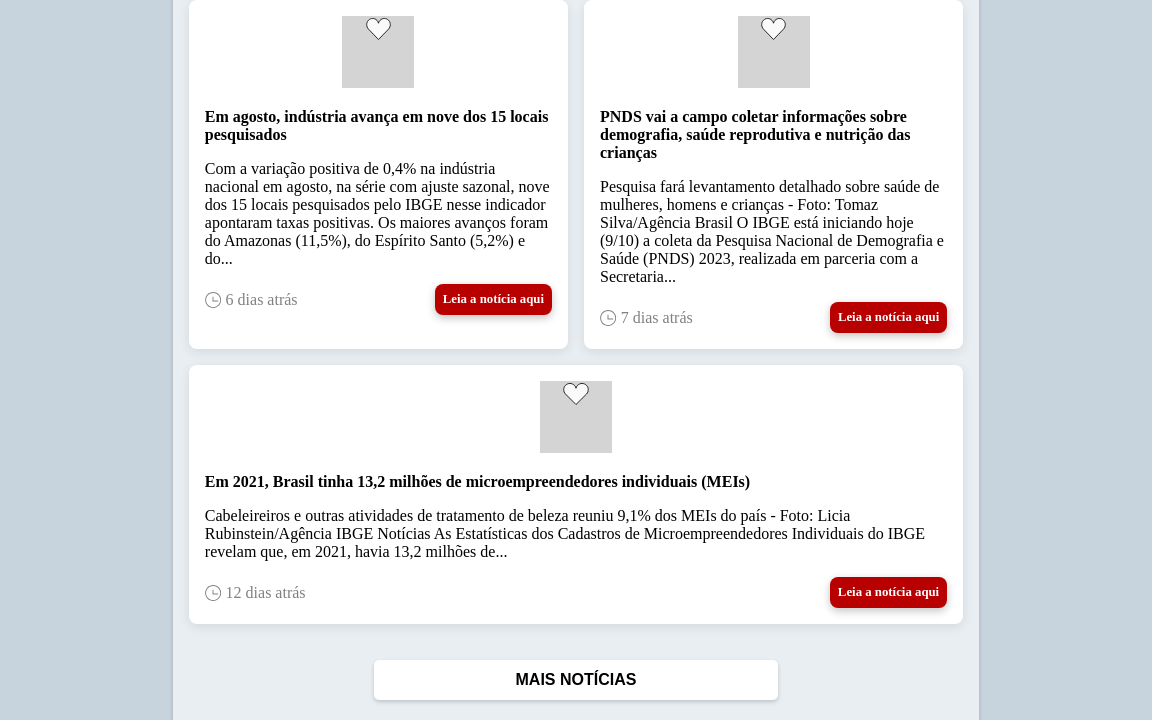
Test: Testa a página home › Testa se ao clicar no botão "MAIS NOTÍCIAS" a quantidade de notícias exibidas é duplicada
(page scrolled)
Click the button "MAIS NOTÍCIAS".
click(576, 680)  # box [374,660,778,700]
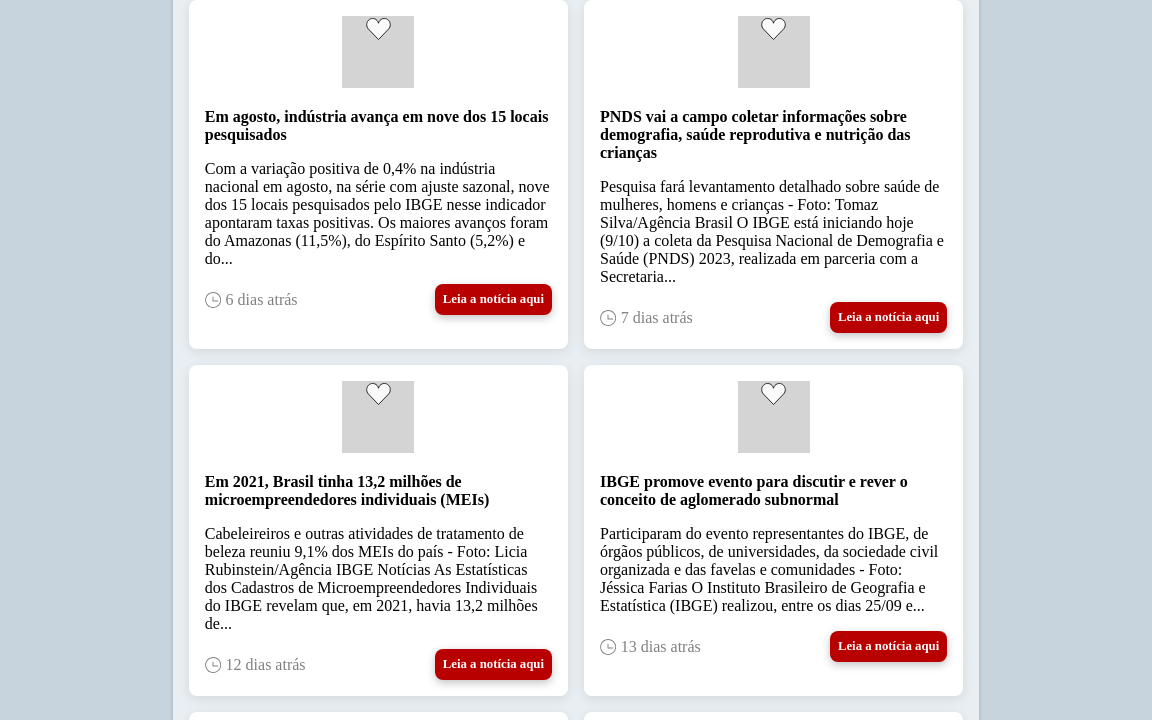
Check: the number of elements with test id "news-card" is 18
